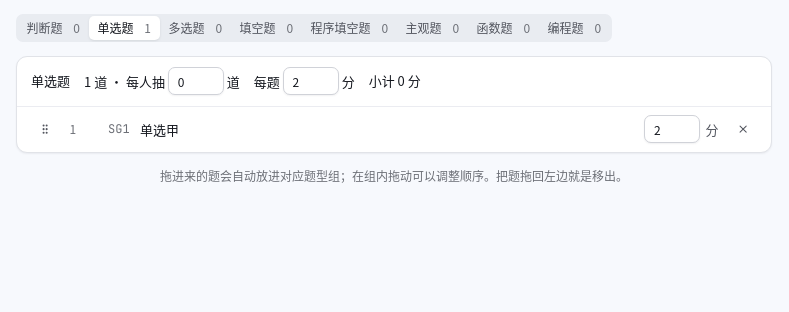
Test: compose paper pane › keeps a draw quota and the over-quota badge on an empty kind
The width and height of the screenshot is (789, 312).
Click the tab "判断题 0" at (53, 28), box [18, 16, 89, 40]
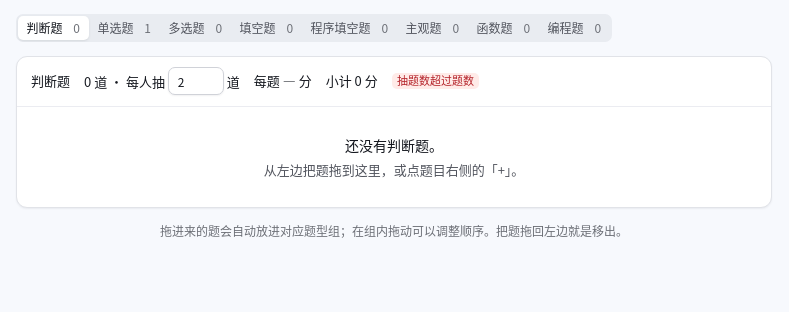
expect the number field named "判断题每人抽题数" holds "2": met
Replace the text in the number field named "判断题每人抽题数" with "0" at (196, 81), box [168, 67, 224, 95]
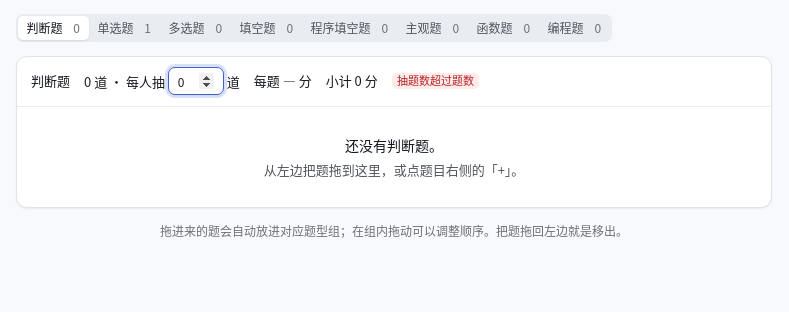
Press Tab
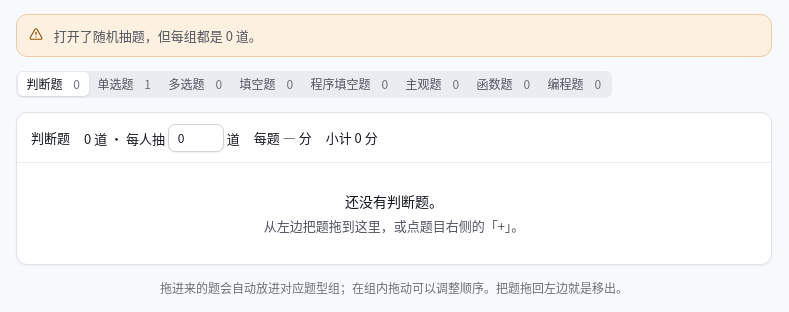
expect the text "抽题数超过题数" is gone: met
